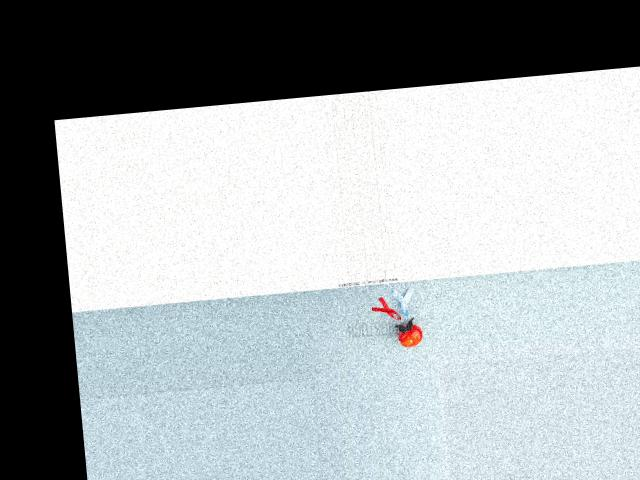tomato: (396, 322, 423, 347)
